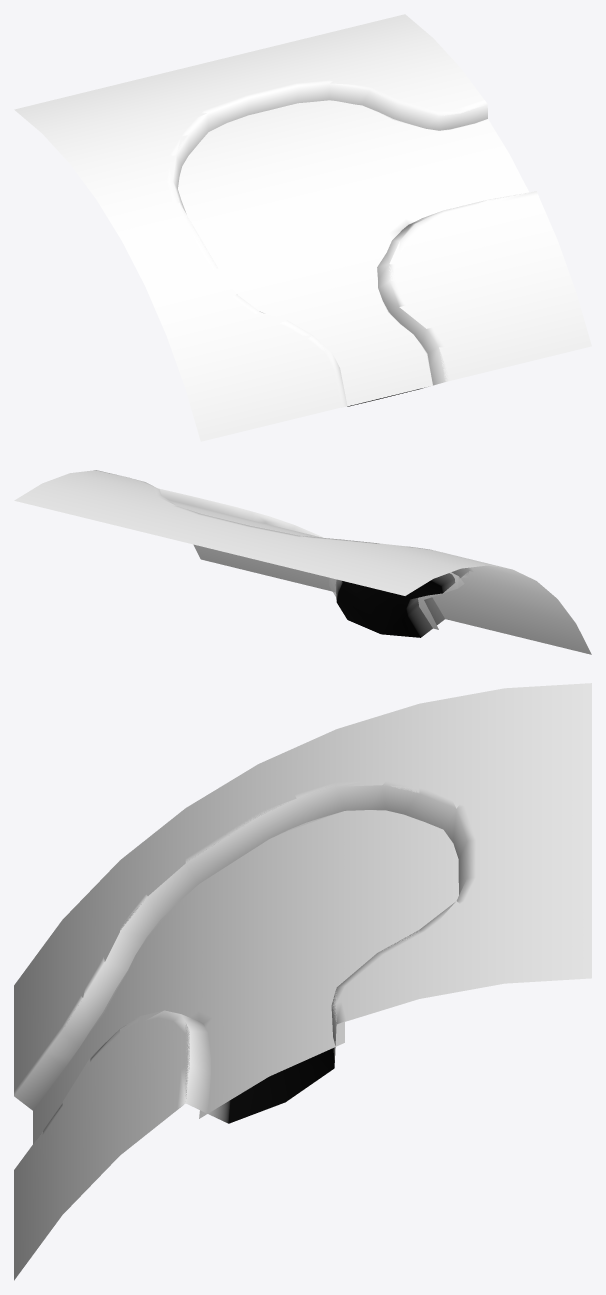
Rendered from grd_Rws_P_1.dae.
3 views of the same model, one above another, from view 1: azimuth 30°, elevation 25°; view 2: azimuth 150°, elevation 25°; view 3: azimuth 270°, elevation 25° (orthographic). The views are drawn at different scales.
Parts seen in each view (by area): view 1: grd_Rws_P_1; view 2: grd_Rws_P_1; view 3: grd_Rws_P_1.
Boxes of the visible parts, bbox=[...] form: grd_Rws_P_1: bbox=[14, 14, 591, 441]; grd_Rws_P_1: bbox=[14, 470, 591, 654]; grd_Rws_P_1: bbox=[14, 683, 591, 1280].
Size of the model in its own units: 512 by 264 by 423.
Materials: 4 (1 with a texture image).
